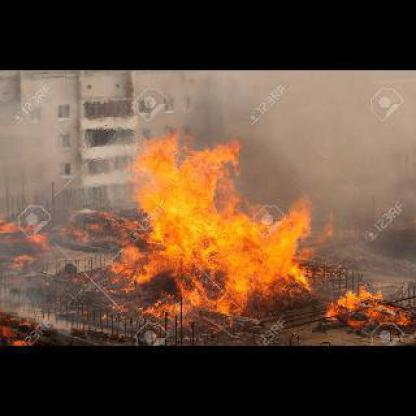Fire: (119, 122, 314, 324), (324, 285, 414, 339), (2, 310, 32, 344)
